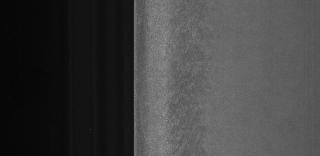silk spot: (166, 12, 212, 144)
